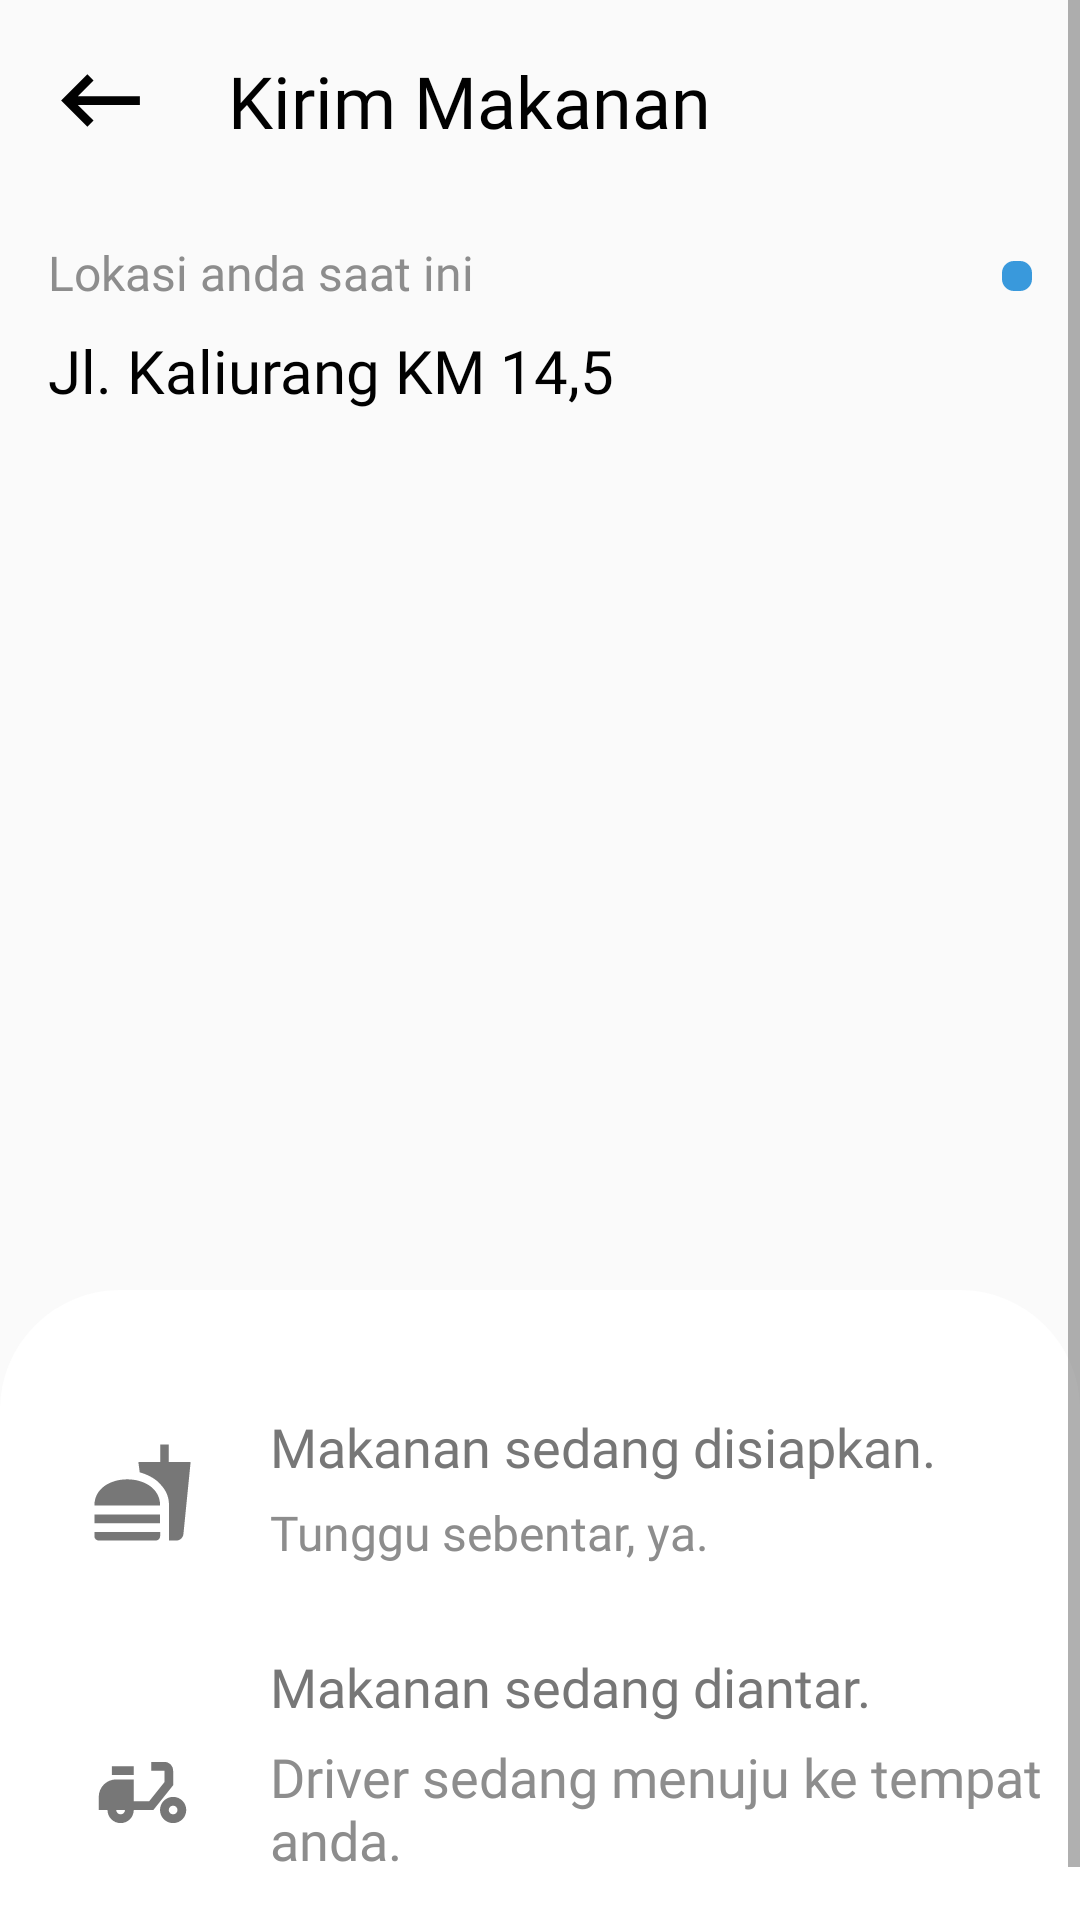

Point at icon controls on the screen. Image size 1080 × 1920, points as (x,y).
fastfood: (142,1492)
keyboard backspace: (100,100)
moped: (142,1792)
